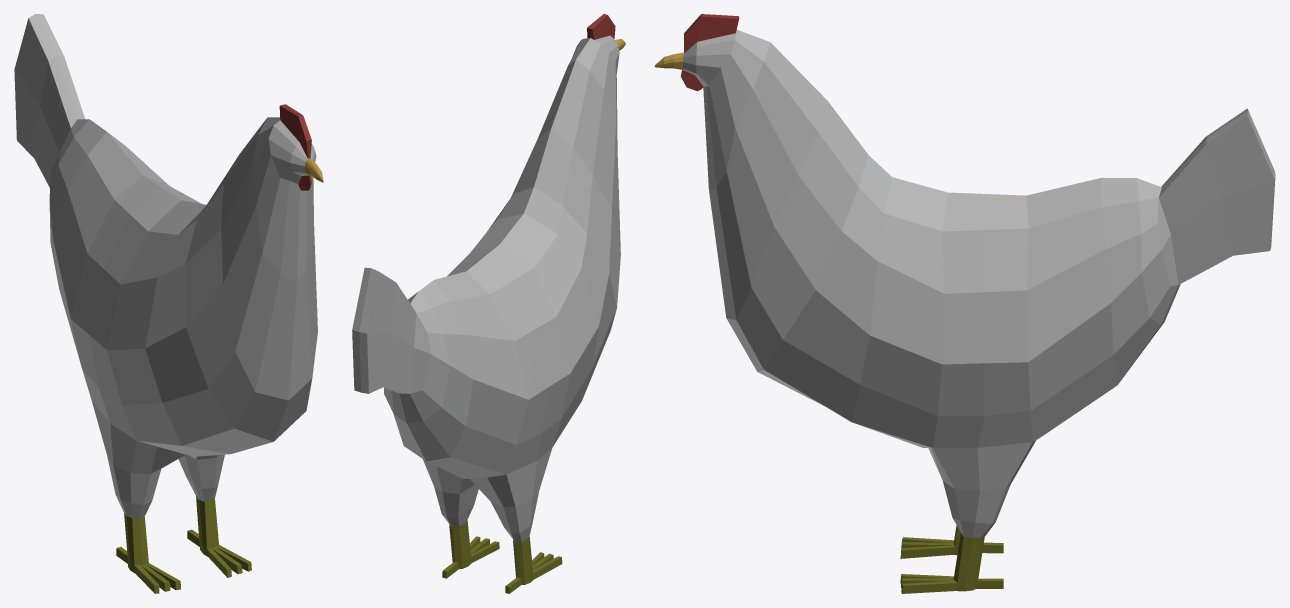
The model's file is Chicken.glb.
The picture shows the model from 3 angles, left to right: view 1: azimuth 30°, elevation 25°; view 2: azimuth 150°, elevation 25°; view 3: azimuth 270°, elevation 25°; orthographic projection. The views are drawn at different scales.
Visible parts, largest first — view 1: 21chikenFinal; view 2: 21chikenFinal; view 3: 21chikenFinal.
Part boxes in pixels (x1,y1,x2,y2): 21chikenFinal: (14, 14, 323, 593); 21chikenFinal: (352, 14, 625, 593); 21chikenFinal: (654, 14, 1275, 593).
Bounding box in the file's own units: 0.1421 × 0.4752 × 0.4811.
1 material, 1 textured.
